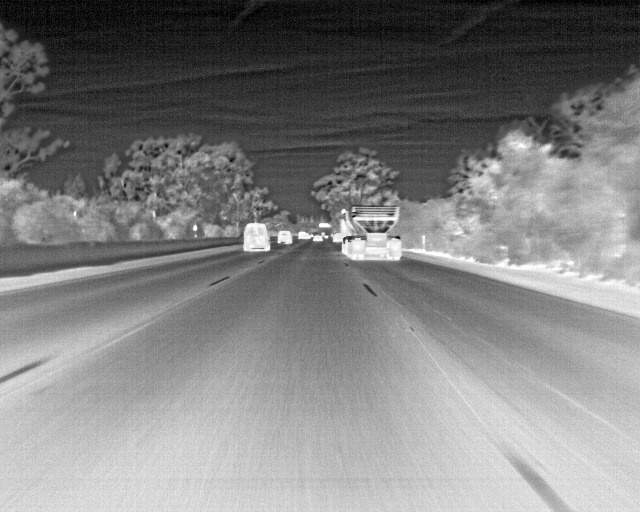vehicle: (339, 205, 402, 259), (245, 222, 270, 252), (279, 228, 293, 246)
